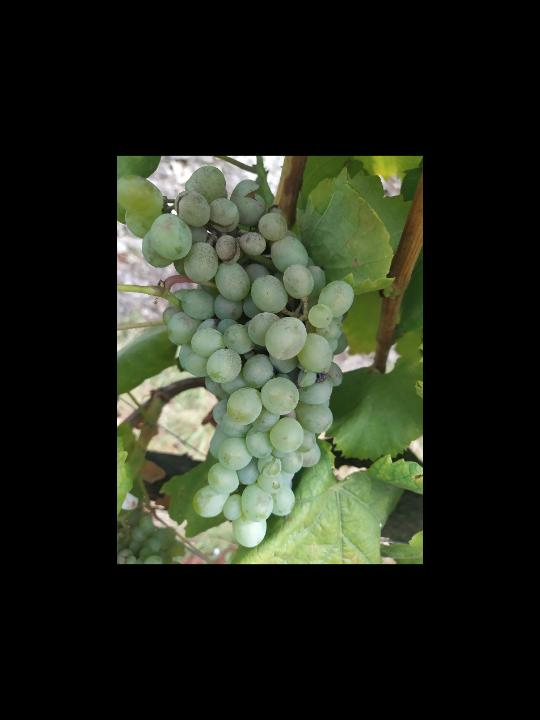grape: (140, 164, 356, 549)
